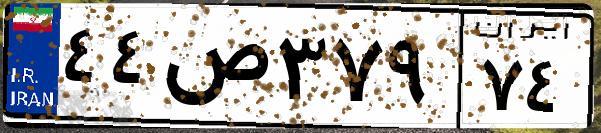3: (270, 28, 330, 110)
4: (57, 26, 110, 100), (525, 38, 570, 115), (110, 28, 158, 98)
7: (330, 28, 385, 110), (475, 38, 525, 113)
9: (385, 28, 445, 110)
ص: (158, 20, 270, 120)
